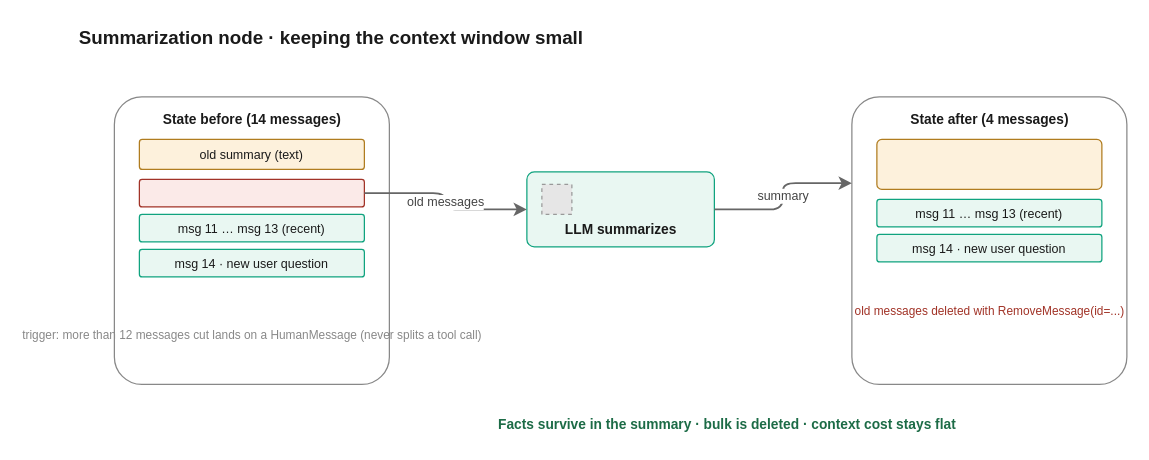
Some shapes in this 1149 by 460 pixel diagram are drawn without their labels. Grey dashed boxes stand in for pictures. Here are the shapes that lost their labels. From the top down, the centre of each, then its label:
At (989,163): "NEW summary (old facts preserved)".
At (251,192): "msg 1 … msg 10 (old)".
